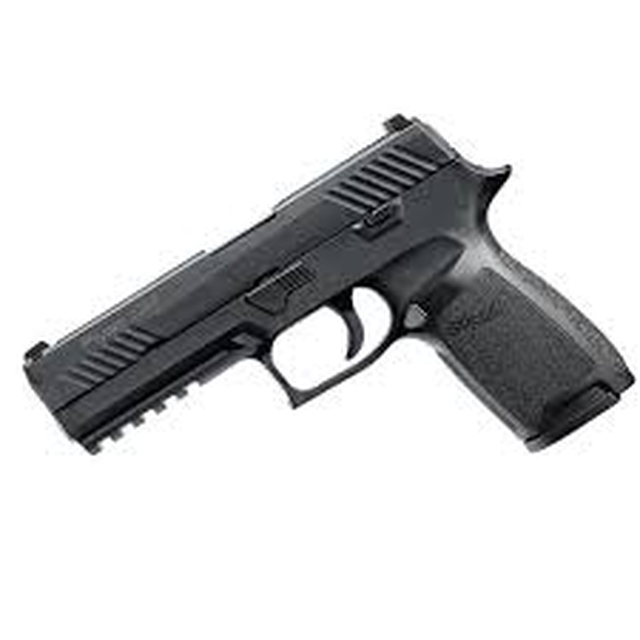SILAH: (16, 102, 638, 505)
